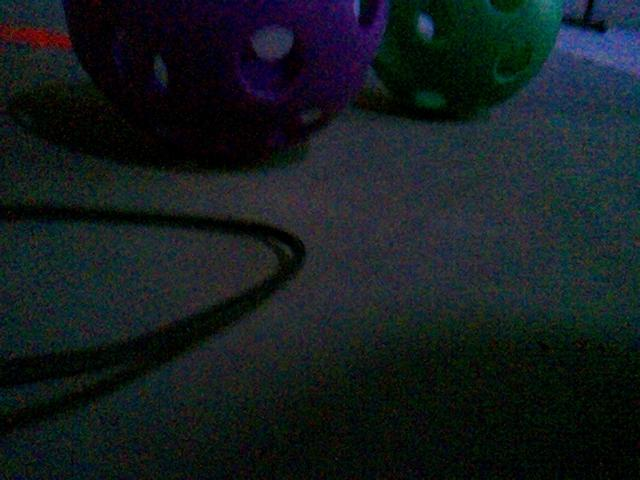Green: (366, 0, 564, 115)
Purple: (63, 0, 387, 160)
